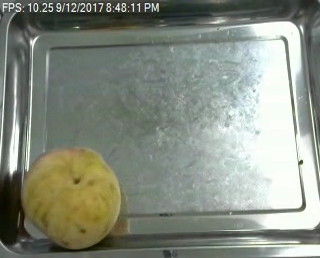Peach: (21, 146, 122, 248)
